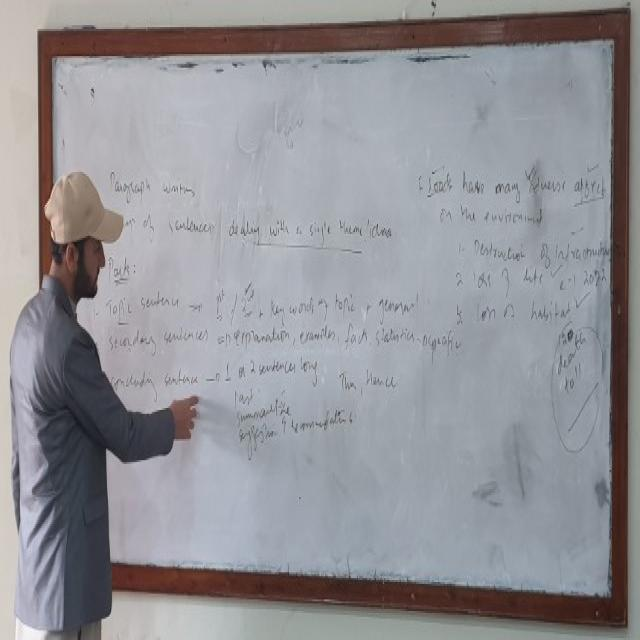Instructor: (6, 172, 120, 634)
White-board: (44, 21, 625, 618)
